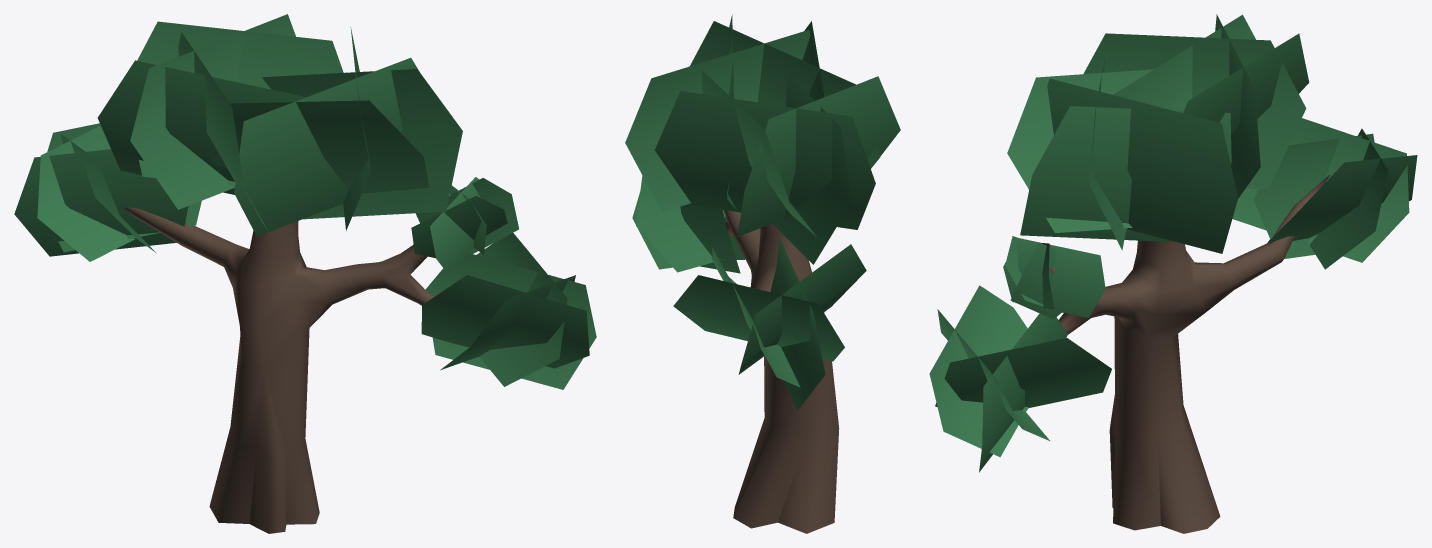
File: Tree1.fbx
3 views of the same model, side by side, from view 1: azimuth 30°, elevation 25°; view 2: azimuth 150°, elevation 25°; view 3: azimuth 270°, elevation 25° (orthographic). The views are drawn at different scales.
Parts seen in each view (by area): view 1: Leaves, Stem; view 2: Leaves, Stem; view 3: Leaves, Stem.
Boxes of the visible parts, box(x1,y1,x2,y2) form: Leaves: box(14, 14, 596, 389); Stem: box(124, 207, 434, 533); Leaves: box(625, 14, 900, 410); Stem: box(723, 210, 839, 533); Leaves: box(929, 14, 1417, 472); Stem: box(1049, 175, 1329, 533).
Size of the model in its own units: 12.47 by 13.97 by 13.5.
